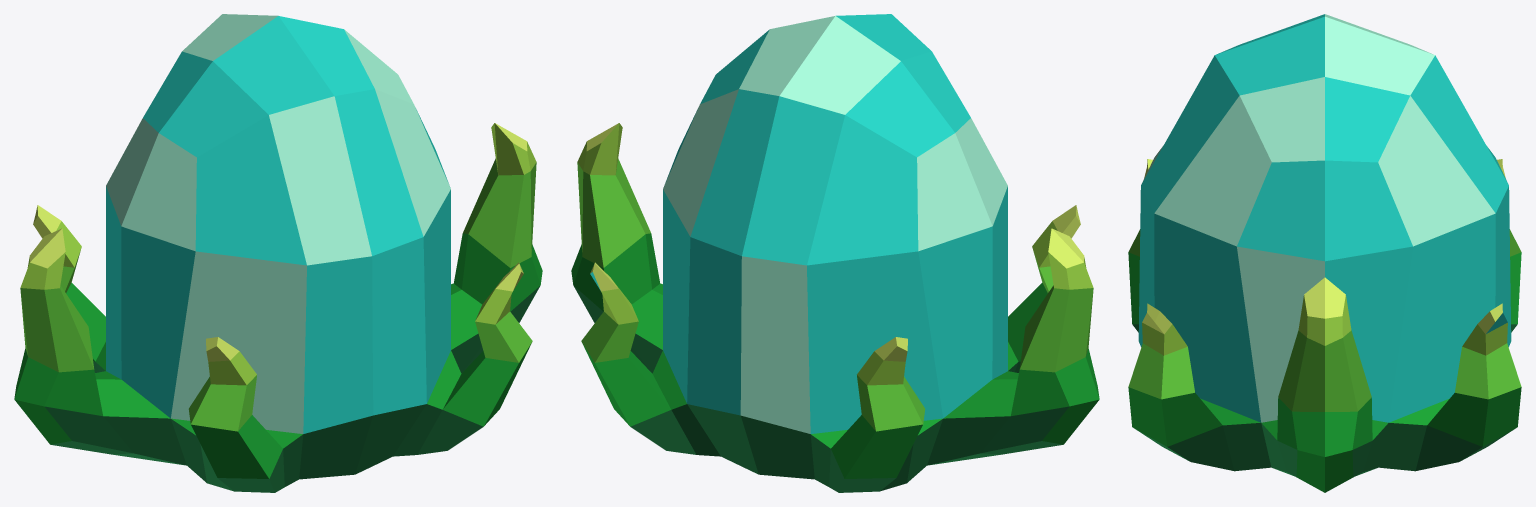
File: Underwater Egg.fbx
3 renders of one model, left to right at view 1: azimuth 30°, elevation 25°; view 2: azimuth 150°, elevation 25°; view 3: azimuth 270°, elevation 25°, orthographic.
Visible parts, largest first — view 1: Cube; view 2: Cube; view 3: Cube.
Part boxes in pixels (x1,y1,x2,y2): Cube: (14, 14, 542, 492); Cube: (571, 14, 1099, 492); Cube: (1128, 14, 1521, 492).
Size of the model in its own units: 342 by 250 by 224.
